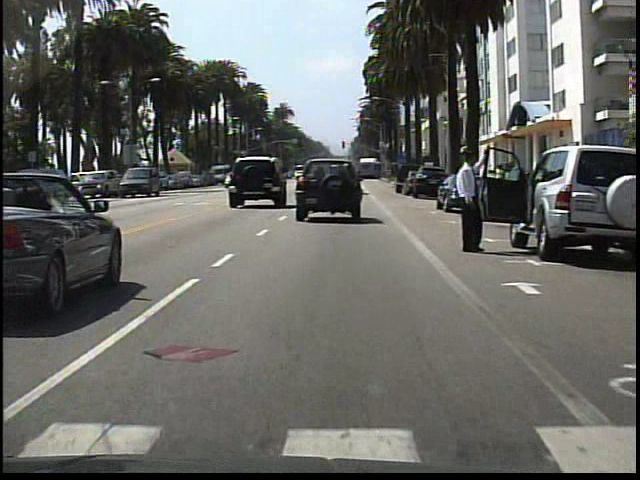person: (445, 142, 492, 260)
